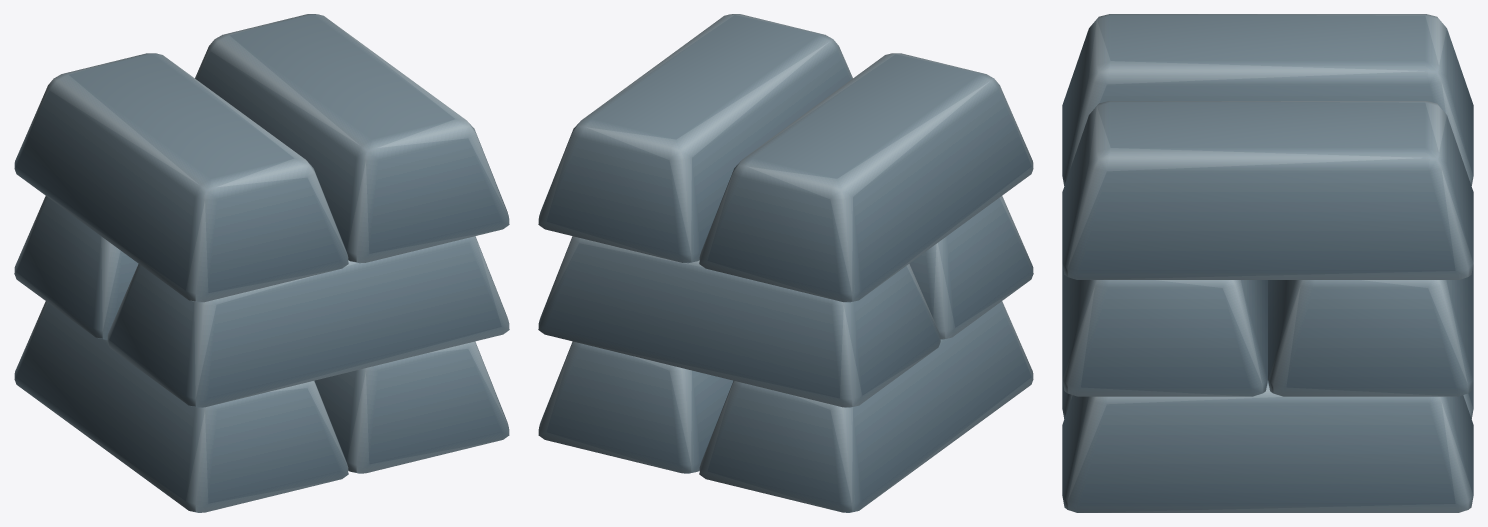
The model's file is kk_iron_bars_stack.glb.
The picture shows the model from 3 angles, left to right: view 1: azimuth 30°, elevation 25°; view 2: azimuth 150°, elevation 25°; view 3: azimuth 270°, elevation 25°; orthographic projection. The views are drawn at different scales.
Visible parts, largest first — view 1: Iron_Bars_Stack_Small; view 2: Iron_Bars_Stack_Small; view 3: Iron_Bars_Stack_Small.
Part boxes in pixels (x1,y1,x2,y2): Iron_Bars_Stack_Small: [14, 14, 509, 512]; Iron_Bars_Stack_Small: [538, 14, 1033, 512]; Iron_Bars_Stack_Small: [1062, 14, 1473, 512].
Bounding box in the file's own units: 0.6 × 0.5625 × 0.6.
Materials: 1 (1 with a texture image).
